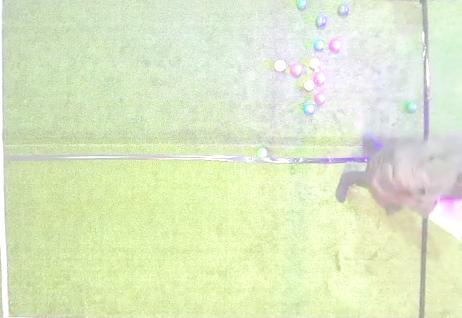blue: (313, 39, 325, 51), (304, 103, 315, 115)
green: (315, 15, 327, 28), (405, 101, 417, 113), (337, 4, 349, 16), (256, 147, 268, 158), (296, 1, 309, 10)
red: (290, 63, 302, 76), (274, 59, 286, 72), (329, 40, 341, 52), (314, 73, 326, 85), (314, 93, 326, 104)
vline: (422, 1, 461, 140), (418, 218, 462, 317), (0, 1, 12, 317)
white: (315, 68, 319, 72)
yellow: (308, 58, 320, 69), (304, 80, 314, 91)
